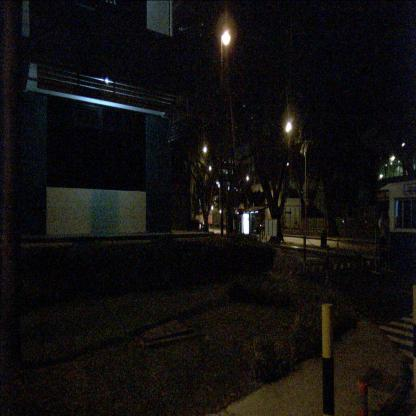human-pedestrian-adult: (378, 209, 388, 275)
